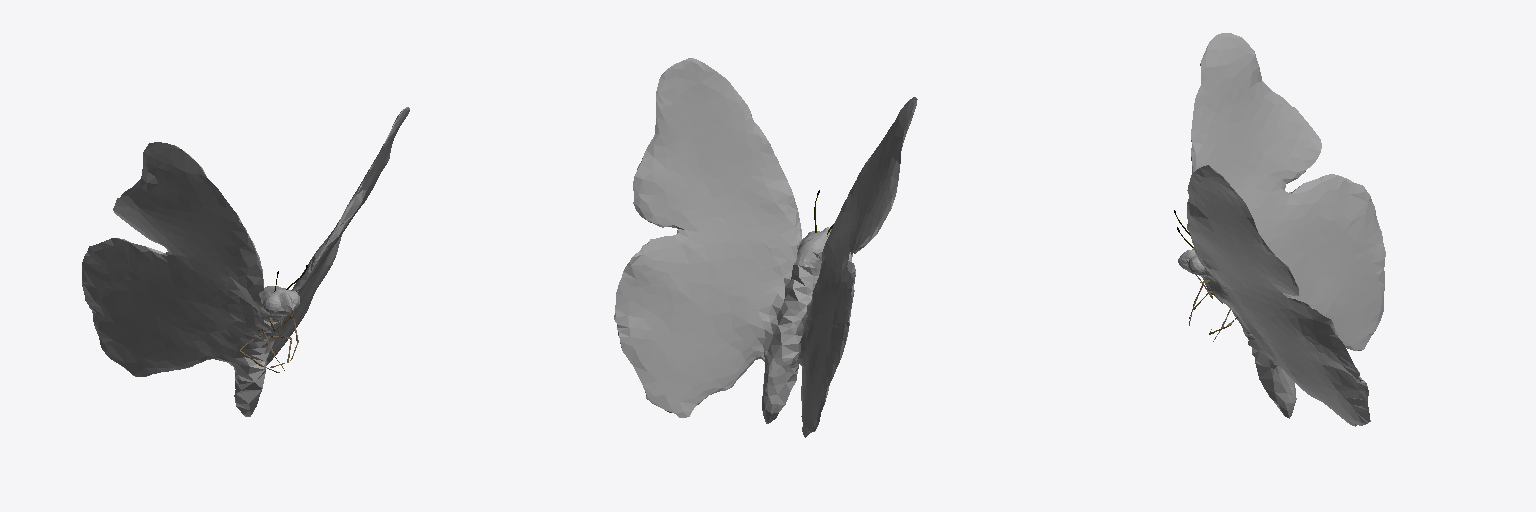
File: buckeye.obj
The picture shows the model from 3 angles: view 1: azimuth 30°, elevation 25°; view 2: azimuth 150°, elevation 25°; view 3: azimuth 270°, elevation 25°; orthographic projection.
Visible parts, largest first — view 1: Buckeye_Buckeye-geom; view 2: Buckeye_Buckeye-geom; view 3: Buckeye_Buckeye-geom.
Part boxes in pixels (x1,y1,x2,y2): Buckeye_Buckeye-geom: (82,107,409,416); Buckeye_Buckeye-geom: (614,58,917,437); Buckeye_Buckeye-geom: (1178,33,1385,426).
Size of the model in its own units: 0.0867 by 0.1039 by 0.061.